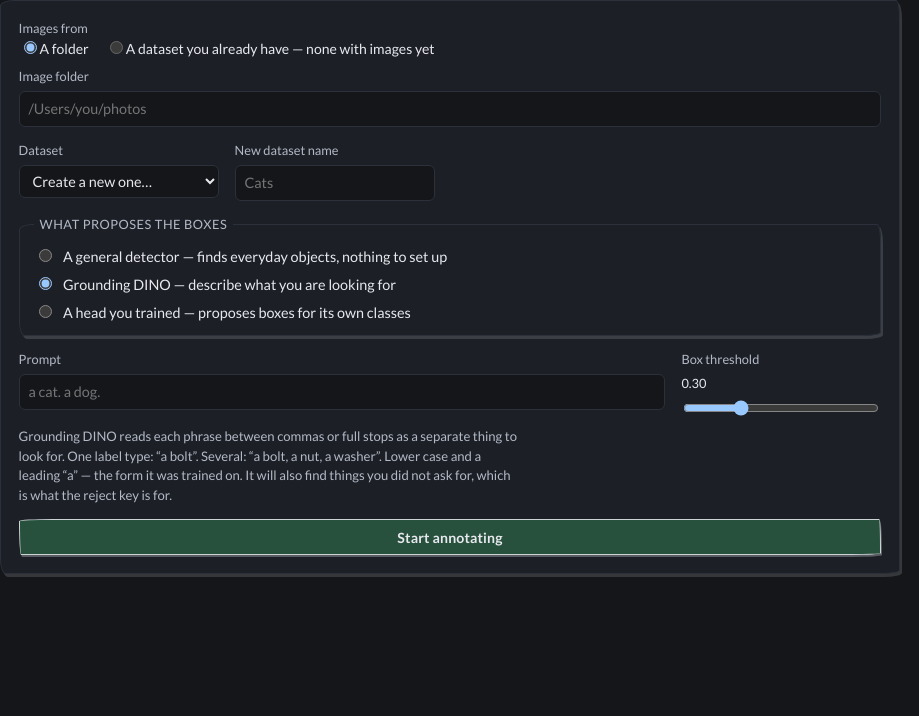
the config it emits › refuses to start head mode with no head to run
Type "/pics" into the field labelled "Image folder" at [450, 109], box 19,91 -> 881,127
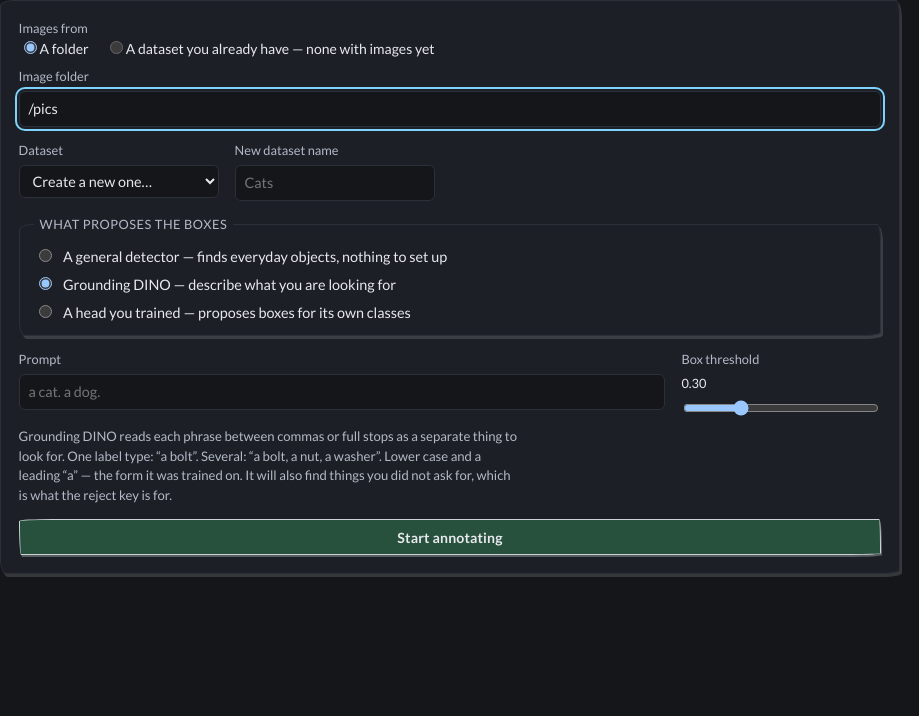
Type "Thermal" into the field labelled "New dataset name" at [335, 183], box 235,165 -> 435,201
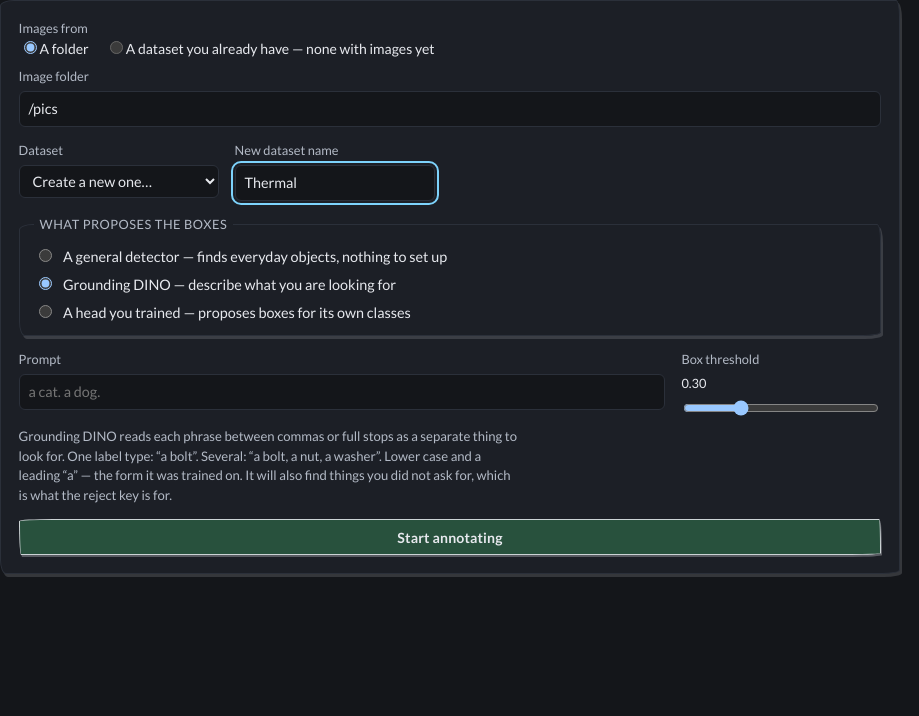
Click the radio button labelled "A head you trained — proposes boxes for its own classes" at [46, 311], box 39,305 -> 52,318
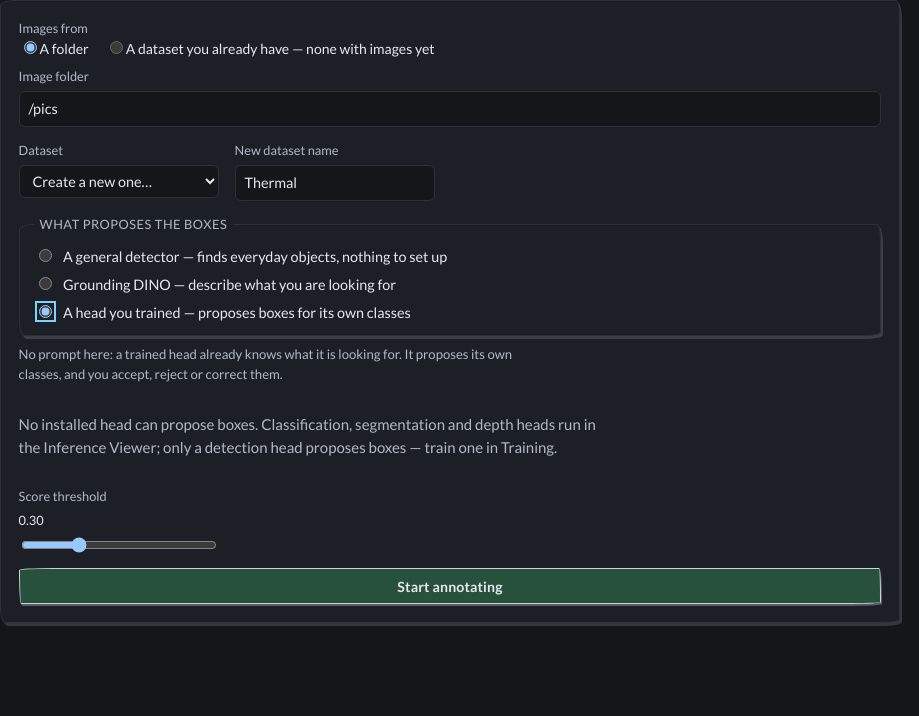
Click the button "Start annotating" at [450, 586], box 19,568 -> 881,604
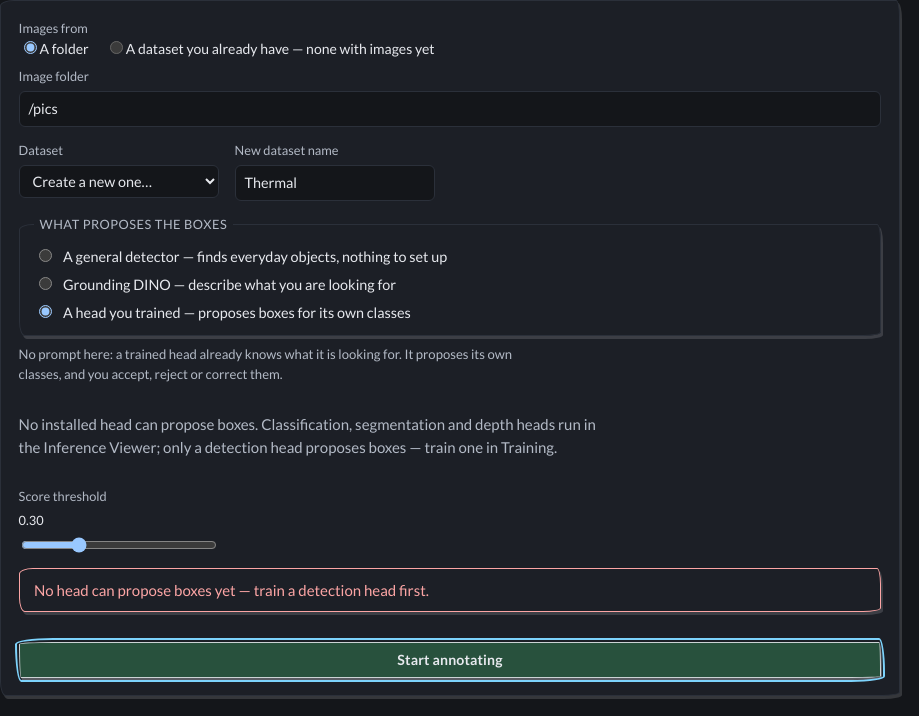
Expected: the message "No head can propose boxes yet — train a detection head first." is shown, 19,568 -> 881,612
